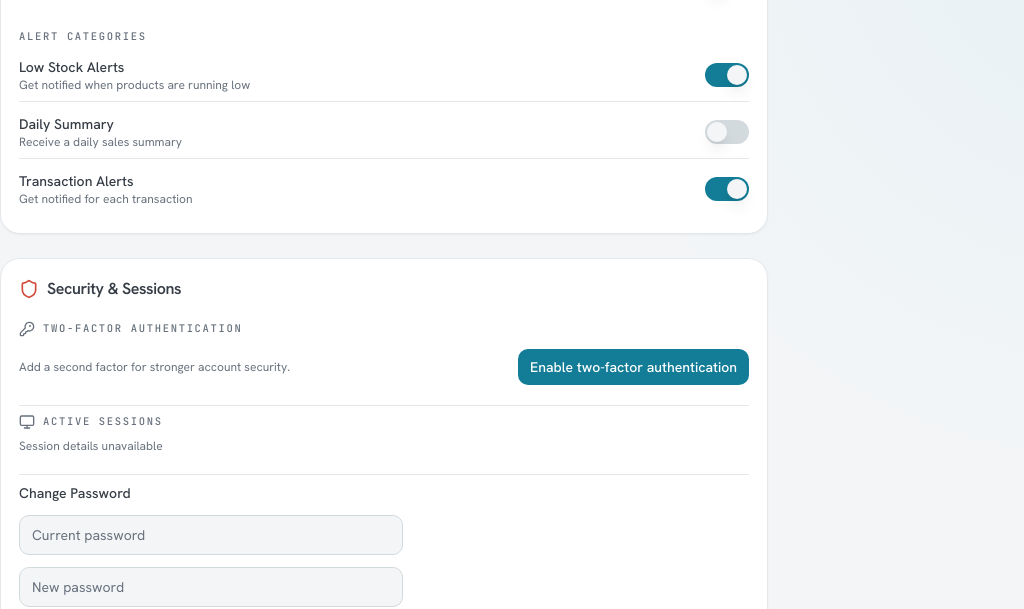
UserProfile — MFA enrollment (#202) › enrolls in MFA: shows the secret, accepts a code, reveals recovery codes
(page scrolled)
Click the button "Enable two-factor authentication" at (634, 366), box [518,348,749,384]
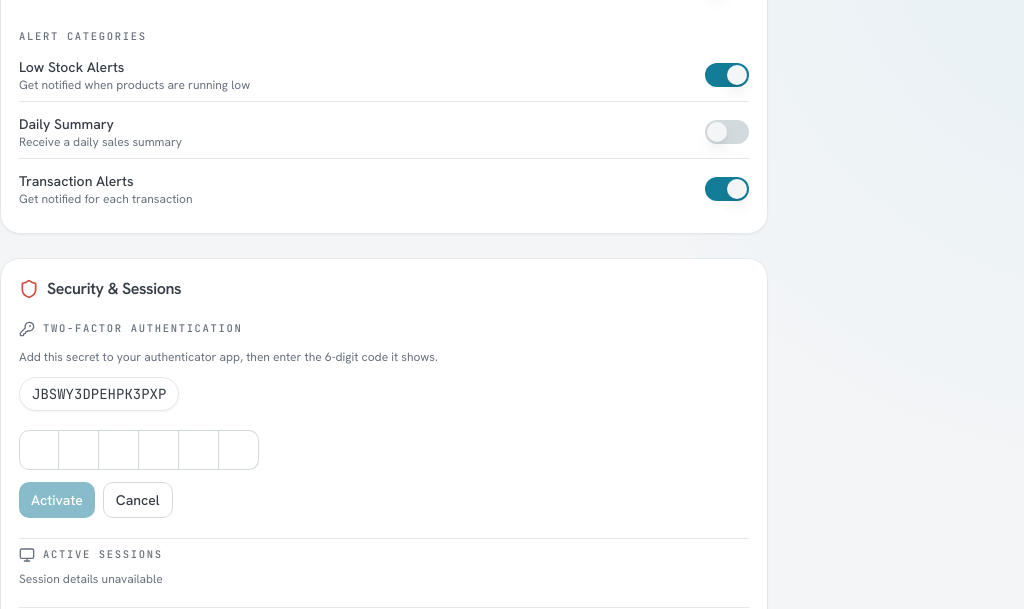
Result: the text "JBSWY3DPEHPK3PXP" is shown at [19,376,179,410]
Type "123456" into the field named "Verification code" at (384, 450), box [19,430,749,470]
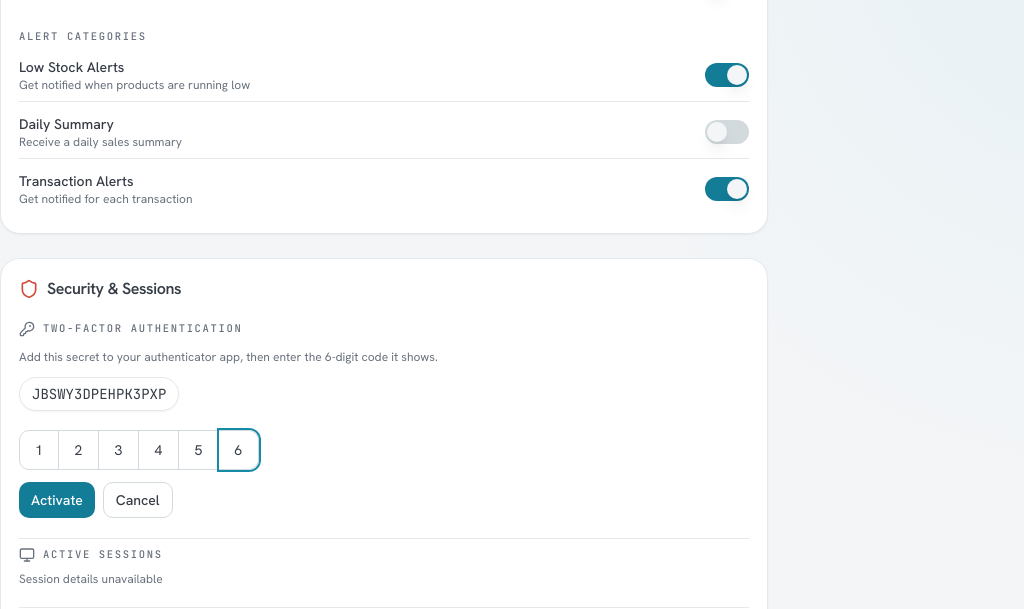
Click the button "Activate" at (57, 500), box [19,482,95,518]
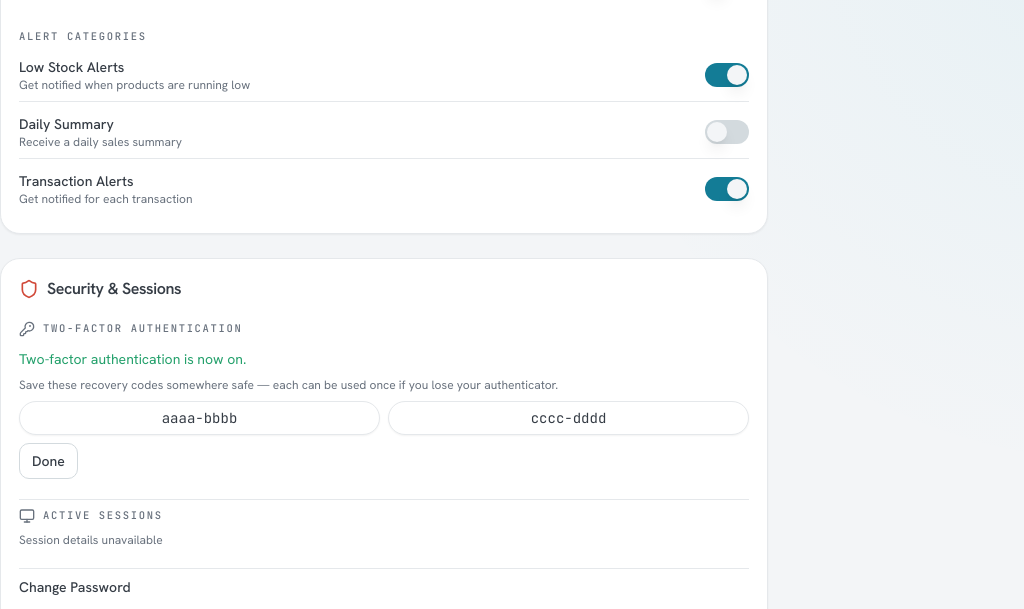
Result: the list item "aaaa-bbbb" is shown at [19,400,380,434]
Result: the list item "cccc-dddd" is shown at [388,400,749,434]
